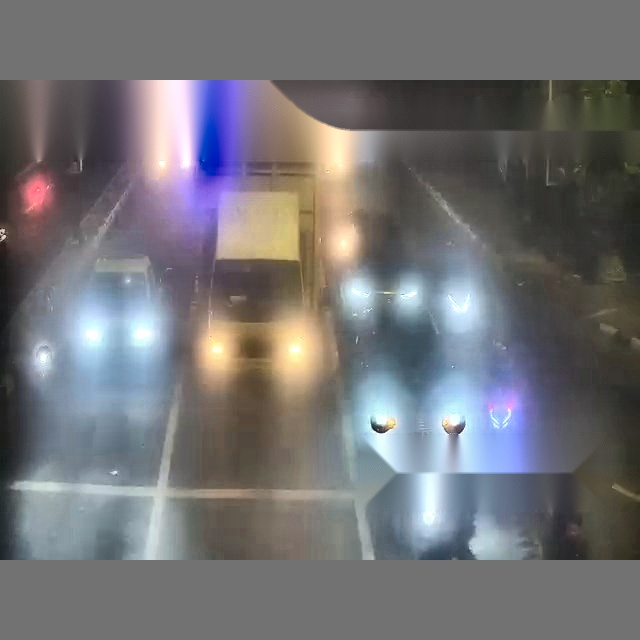Motor: (326, 212, 362, 283), (20, 168, 52, 217)
Truk: (199, 82, 338, 430)
